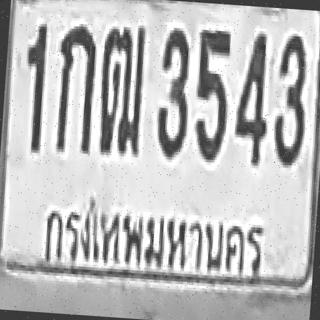A01: (52, 22, 97, 153)
A18: (95, 21, 145, 156)
N01: (20, 22, 48, 152)
N03: (270, 31, 310, 167), (154, 24, 192, 158)
N04: (232, 28, 272, 164)
N05: (190, 26, 231, 160)
P04: (39, 188, 270, 286)
